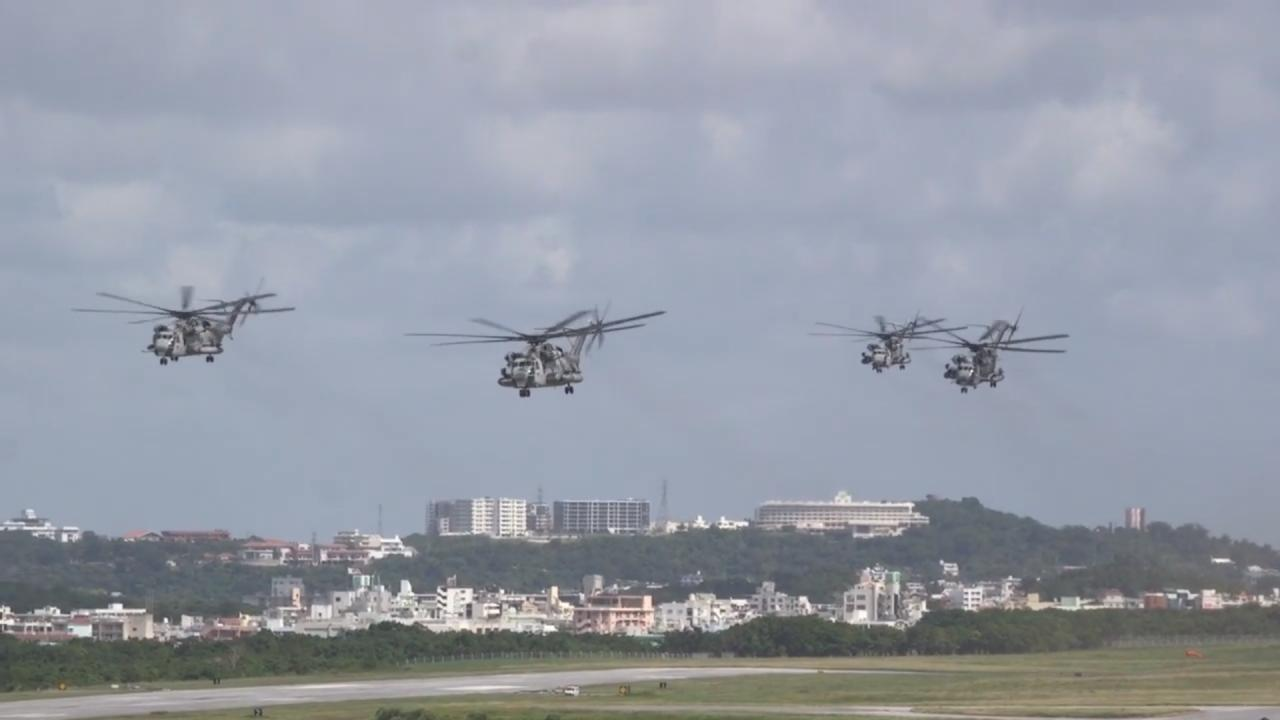Helicopter: (392, 267, 672, 431), (64, 250, 318, 395), (902, 284, 1083, 407), (799, 276, 979, 398)
